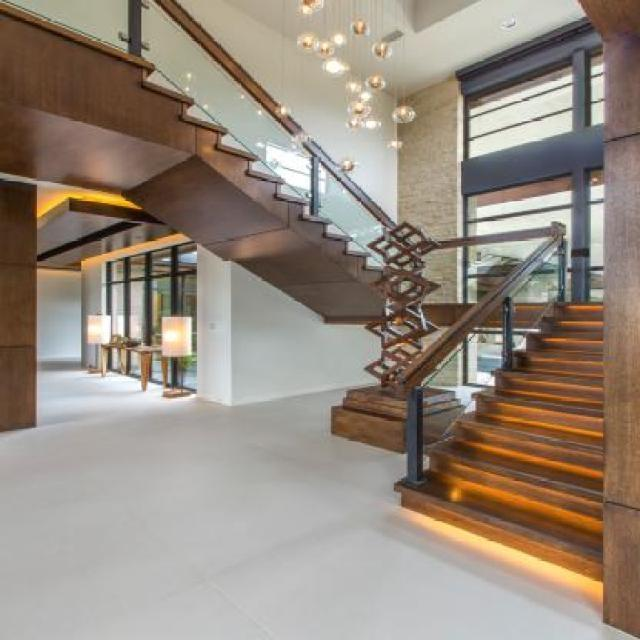stair: (284, 281, 602, 528)
